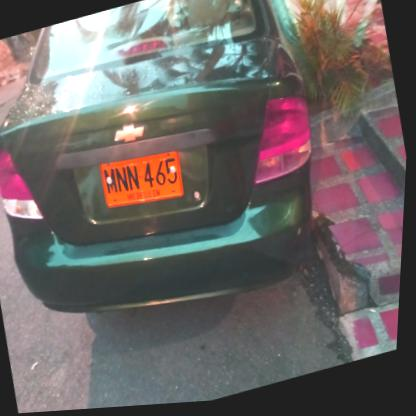placa: (94, 141, 191, 223)
